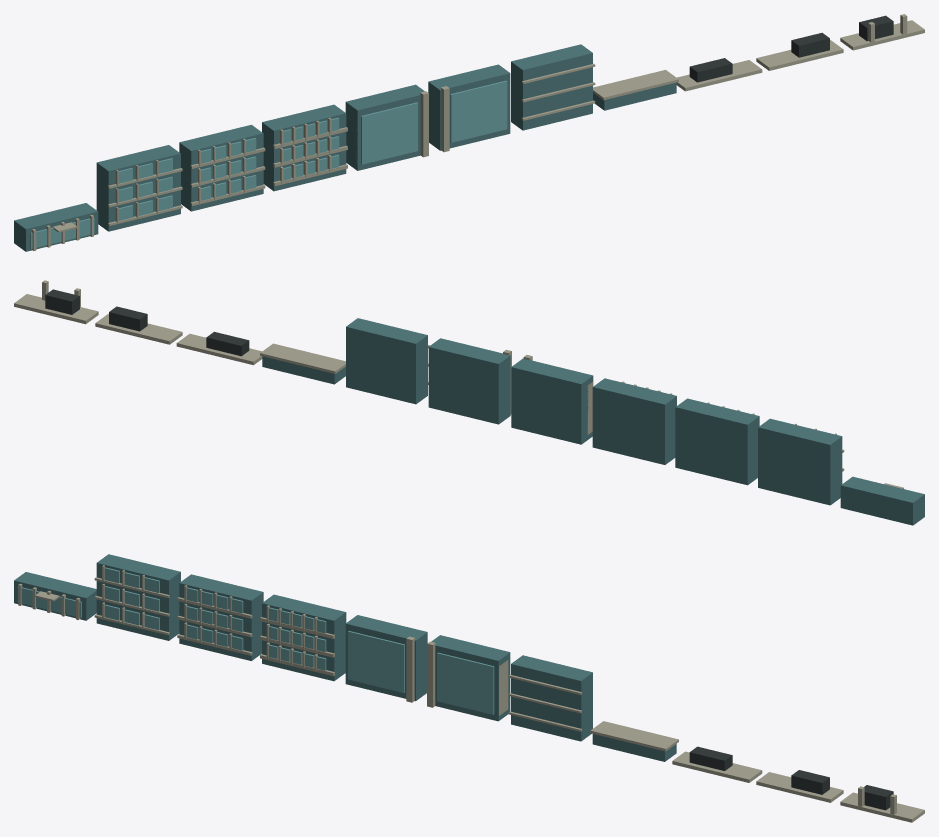
File: blue-green-curtain-wall.glb
The picture shows the model from 3 angles, top to bottom: view 1: azimuth 30°, elevation 25°; view 2: azimuth 150°, elevation 25°; view 3: azimuth 330°, elevation 25°; orthographic projection.
Visible parts, largest first — view 1: middle-wall (×3), front-glass (×2), corner-wall (×2), party-wall, cornice (×3), roof-house (×3), base-shell, shoulder-cap, corner-pier (×2), shoulder, recessed-ground-floor; view 2: middle-wall (×3), corner-wall (×2), party-wall, base-shell, cornice (×3), roof-house (×3), shoulder-cap, shoulder; view 3: middle-wall (×3), front-glass (×2), party-wall, corner-wall (×2), cornice (×3), roof-house (×3), base-shell, shoulder-cap, corner-pier (×2), shoulder, recessed-ground-floor.
Part boxes in pixels (bbox=[...]): middle-wall (×3): bbox=[96, 104, 346, 231]; front-glass (×2): bbox=[361, 80, 507, 164]; corner-wall (×2): bbox=[345, 64, 510, 170]; party-wall: bbox=[511, 44, 592, 130]; cornice (×3): bbox=[676, 20, 924, 91]; roof-house (×3): bbox=[689, 15, 893, 82]; base-shell: bbox=[14, 203, 98, 251]; shoulder-cap: bbox=[593, 69, 678, 100]; corner-pier (×2): bbox=[420, 86, 449, 157]; shoulder: bbox=[593, 82, 676, 110]; recessed-ground-floor: bbox=[30, 218, 94, 248]; middle-wall (×3): bbox=[592, 378, 842, 505]; corner-wall (×2): bbox=[428, 338, 593, 444]; party-wall: bbox=[346, 318, 427, 404]; base-shell: bbox=[840, 476, 924, 525]; cornice (×3): bbox=[14, 294, 262, 365]; roof-house (×3): bbox=[45, 289, 249, 356]; shoulder-cap: bbox=[260, 343, 345, 373]; shoulder: bbox=[262, 356, 345, 384]; middle-wall (×3): bbox=[96, 554, 346, 681]; front-glass (×2): bbox=[348, 631, 494, 714]; party-wall: bbox=[511, 655, 592, 741]; corner-wall (×2): bbox=[345, 615, 510, 721]; cornice (×3): bbox=[672, 751, 924, 822]; roof-house (×3): bbox=[689, 746, 893, 810]; base-shell: bbox=[14, 572, 96, 620]; shoulder-cap: bbox=[590, 721, 678, 751]; corner-pier (×2): bbox=[406, 636, 435, 707]; shoulder: bbox=[592, 734, 676, 761]; recessed-ground-floor: bbox=[17, 586, 81, 617].
Size of the model in its own units: 43.49 by 2.9 by 1.53.
